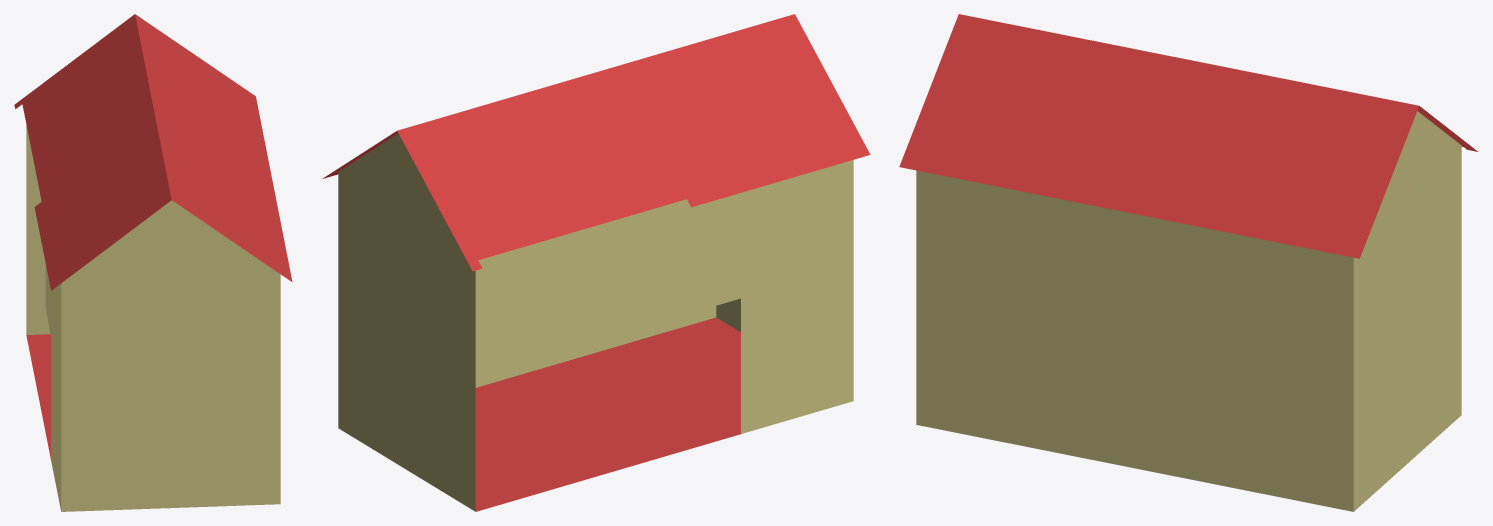
3 renders of one model, left to right at view 1: azimuth 30°, elevation 25°; view 2: azimuth 150°, elevation 25°; view 3: azimuth 270°, elevation 25°, orthographic. The views are drawn at different scales.
Bounding box in the file's own units: 18.41 × 22.72 × 15.58.
